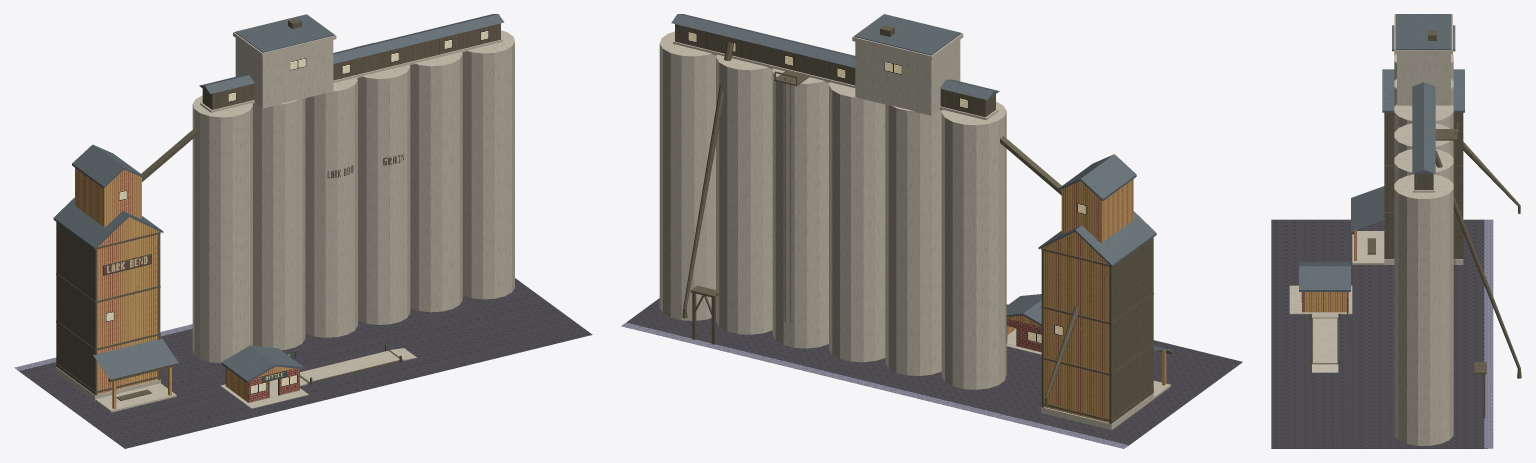
The model's file is lark-bend-1950-far.glb.
3 views of the same model, side by side, from view 1: azimuth 30°, elevation 25°; view 2: azimuth 150°, elevation 25°; view 3: azimuth 270°, elevation 25° (orthographic). The views are drawn at different scales.
Parts seen in each view (by area): view 1: concrete_elevator, lot, timber_elevator, scale_office; view 2: concrete_elevator, timber_elevator, lot, scale_office; view 3: lot, concrete_elevator, timber_elevator, scale_office.
Boxes of the visible parts, box(x1,y1,x2,y2) form: concrete_elevator: box(192, 14, 514, 363); lot: box(14, 278, 592, 448); timber_elevator: box(53, 127, 198, 412); scale_office: box(221, 345, 304, 402); concrete_elevator: box(659, 14, 1006, 389); timber_elevator: box(1000, 136, 1172, 430); lot: box(621, 298, 1242, 448); scale_office: box(1006, 294, 1041, 352); lot: box(1271, 219, 1493, 448); concrete_elevator: box(1394, 14, 1521, 445); timber_elevator: box(1351, 25, 1520, 264); scale_office: box(1299, 262, 1350, 312).
Size of what is drawn, in the model's own units: 71 by 44.71 by 32.8.
Materials: 9 (9 with a texture image).
